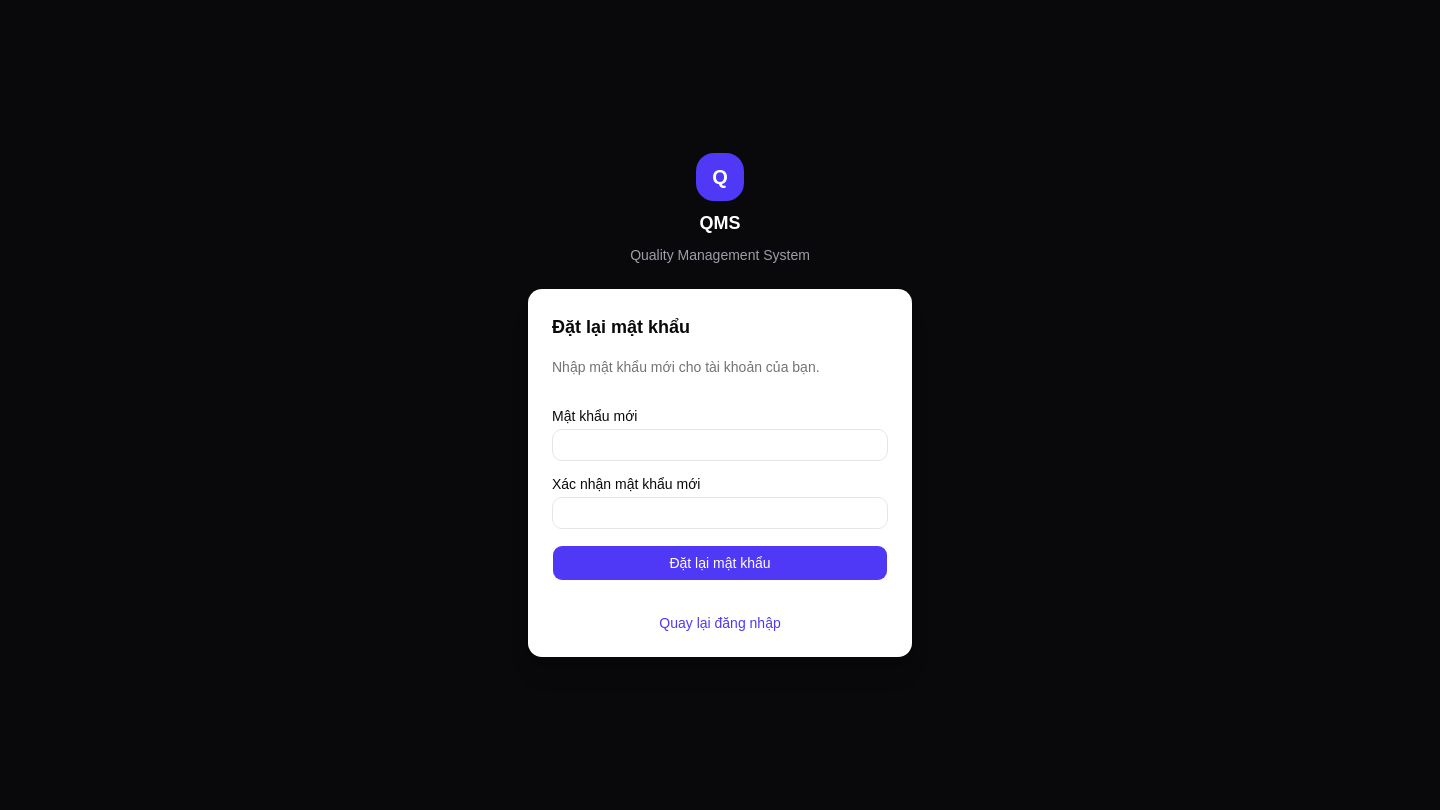
Test: ResetPasswordPage › redirects to /login on an invalid/expired token
Type "password123" into the password field labelled "Mật khẩu mới".
click(720, 445); type("password123")  # box [552,429,888,461]
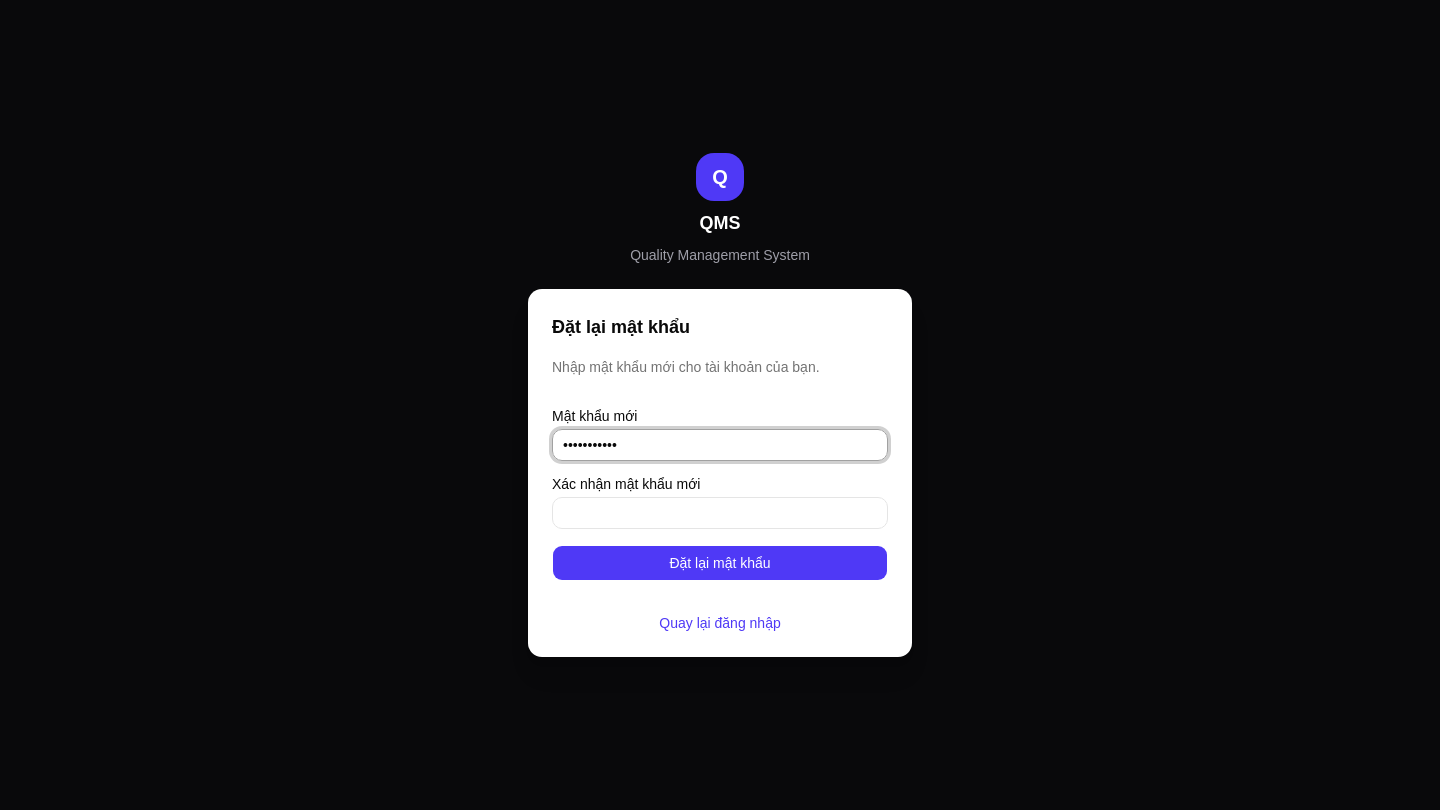
Type "password123" into the password field labelled "Xác nhận mật khẩu mới".
click(720, 513); type("password123")  # box [552,497,888,529]
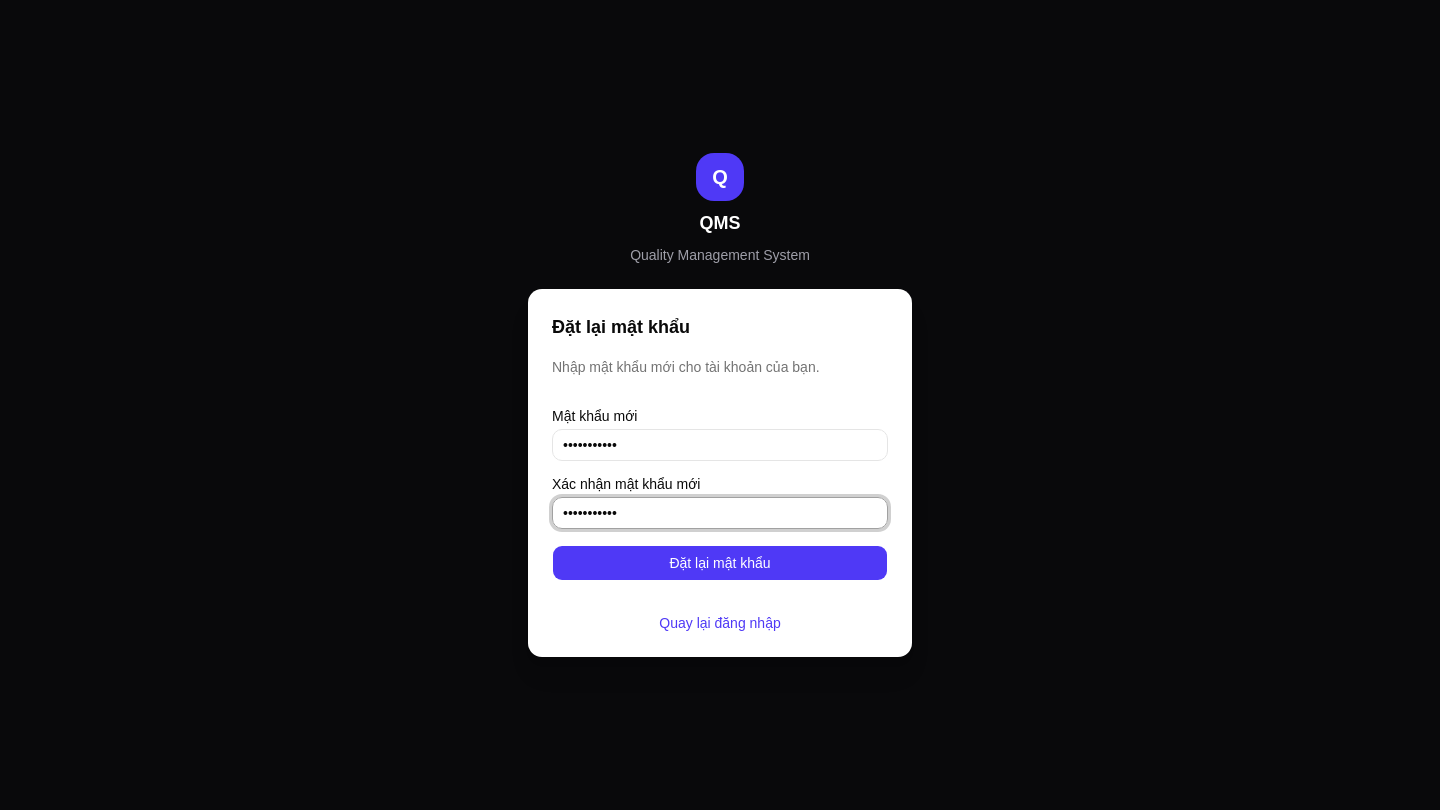
Click the button "Đặt lại mật khẩu".
click(720, 563)  # box [552,545,888,581]
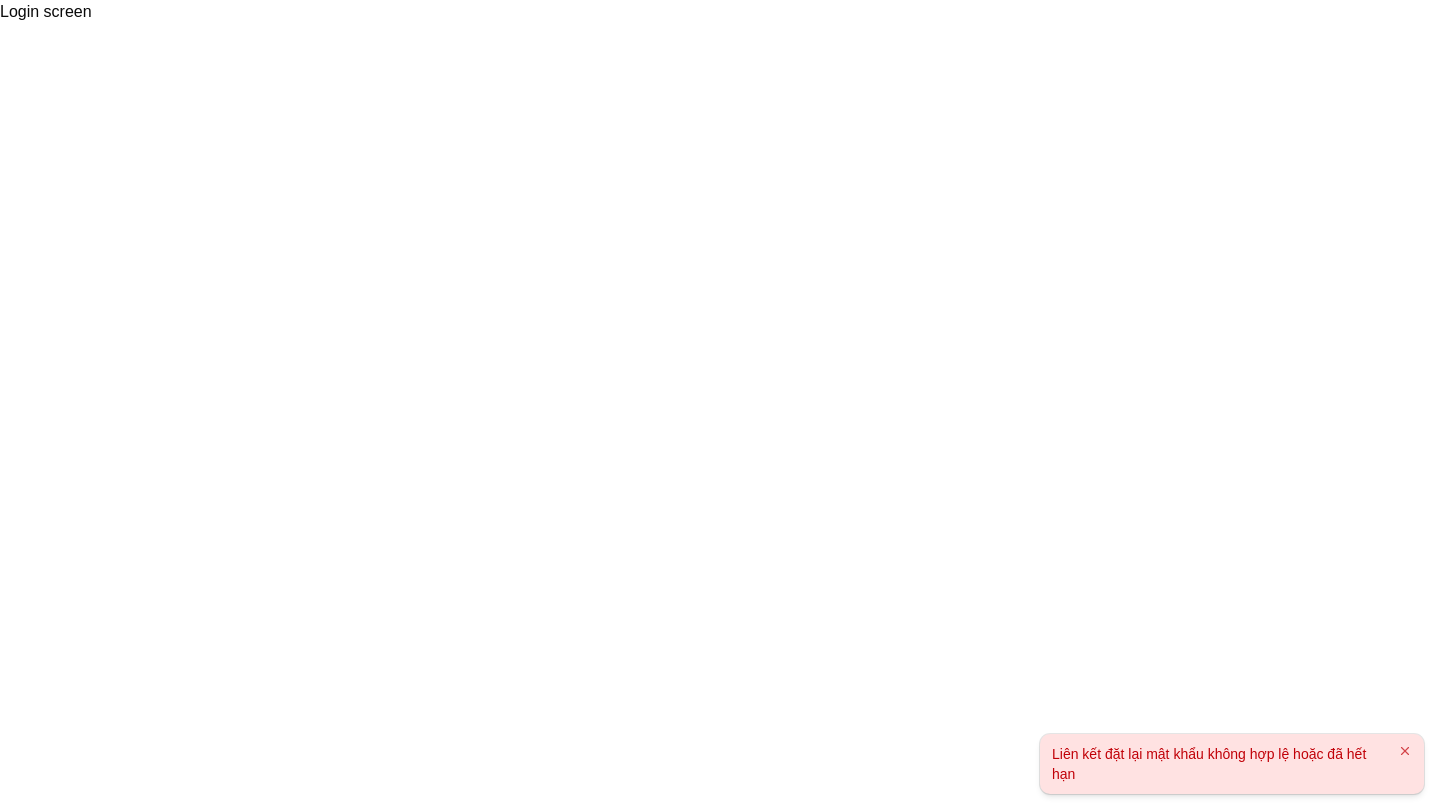
Expected: the text "Liên kết đặt lại mật khẩu không hợp lệ hoặc đã hết hạn" is shown, [1052,744,1390,784]
Expected: the text "Login screen" is shown, [0,3,92,20]
